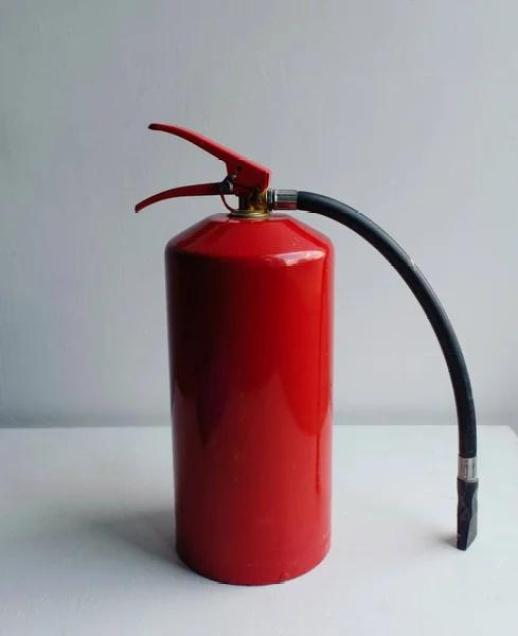APAR: (132, 123, 336, 585)
